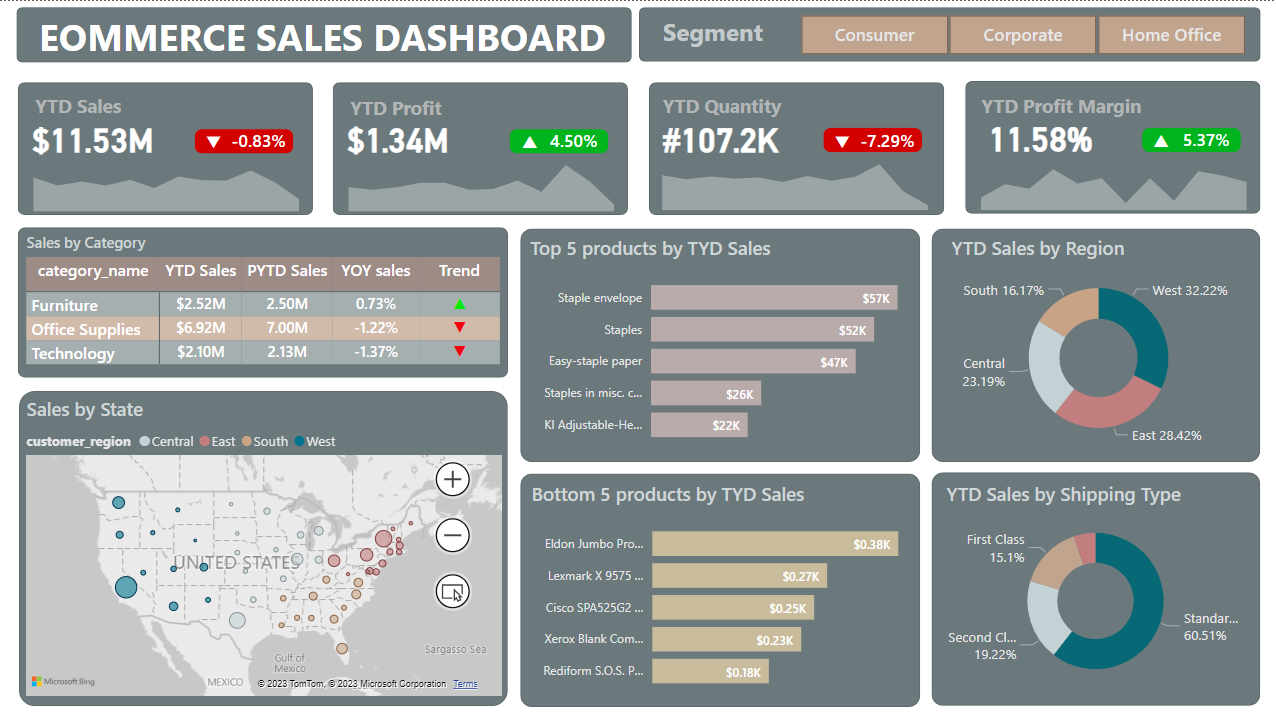

The dashboard page shown, as its layout file describes it:
{"tool":"powerbi","page":{"name":"Page 1","canvas":[1280,720],"ordinal":0},"visuals":[{"type":"shape","box":[17.9,6,615,55],"z":0},{"type":"textbox","box":[34.4,4.4,586.1,60.3],"z":1000},{"type":"shape","box":[18.4,81.8,295.5,132.7],"z":2000},{"type":"card","fields":{"Values":["ecommerce_data.YTD Sales"]},"box":[20,113,147,50],"z":3000},{"type":"areaChart","fields":{"Category":["Calandar.Month"],"Y":["Sum(ecommerce_data.sales_per_order)"]},"box":[19.5,148.3,294.7,66.5],"z":4000},{"type":"shape","box":[194.5,127.4,100.1,25.3],"z":5000},{"type":"card","fields":{"Values":["ecommerce_data.YOY sales"]},"box":[224.5,127.8,70,26.4],"z":6000},{"type":"card","fields":{"Values":["ecommerce_data.Sales Icon"]},"box":[200,127.7,28.9,25],"z":7000},{"type":"textbox","box":[31,88,109,35],"z":8000},{"type":"shape","box":[334.1,81.7,295.5,132.7],"z":9000},{"type":"card","fields":{"Values":["ecommerce_data.YTD Profit"]},"box":[336.1,111.3,125,51.2],"z":10000},{"type":"shape","box":[510.2,127.4,100.1,25.3],"z":11000},{"type":"card","fields":{"Values":["ecommerce_data.YOY Profit"]},"box":[540.2,127.7,70,26.4],"z":12000},{"type":"card","fields":{"Values":["ecommerce_data.Sales Icon Profit"]},"box":[515.7,127.6,28.9,25],"z":13000},{"type":"textbox","box":[345.9,88.3,110,35],"z":14000},{"type":"areaChart","fields":{"Category":["Calandar.Month"],"Y":["Sum(ecommerce_data.profit_per_order)"]},"box":[335.2,148.3,294.7,66.5],"z":15000},{"type":"shape","box":[649.5,80.9,295.5,132.7],"z":16000},{"type":"card","fields":{"Values":["ecommerce_data.YTD concantinated"]},"box":[648,110.8,148,51],"z":17000},{"type":"shape","box":[823.3,126.8,100.1,25.3],"z":18000},{"type":"card","fields":{"Values":["ecommerce_data.YOY Qty"]},"box":[853.3,127.2,70,26.4],"z":19000},{"type":"card","fields":{"Values":["ecommerce_data.Qty Icon"]},"box":[828.8,127.1,28.9,25],"z":20000},{"type":"textbox","box":[658.8,88.1,136.2,35],"z":21000},{"type":"areaChart","fields":{"Category":["Calandar.Month"],"Y":["Sum(ecommerce_data.order_quantity)"]},"box":[648.3,147.8,294.7,66.5],"z":22000},{"type":"shape","box":[966.2,80.4,295.5,132.7],"z":23000},{"type":"card","fields":{"Values":["ecommerce_data.YTD profit margin"]},"box":[967,110,148,51],"z":24000},{"type":"shape","box":[1142.3,126,100.1,25.3],"z":25000},{"type":"card","fields":{"Values":["ecommerce_data.YOY profit margin"]},"box":[1172.3,126.4,70,26.4],"z":26000},{"type":"card","fields":{"Values":["ecommerce_data.profit margin Icon"]},"box":[1147.8,126.3,28.9,25],"z":27000},{"type":"textbox","box":[977.3,87,185,35],"z":28000},{"type":"areaChart","fields":{"Category":["Calandar.Month"],"Y":["ecommerce_data.profit margin"]},"box":[967.3,146.9,294.7,66.5],"z":29000},{"type":"shape","box":[18.8,226.2,490,150],"z":30000},{"type":"pivotTable","title":"Sales by Category","fields":{"Rows":["ecommerce_data.category_name"],"Values":["ecommerce_data.YTD Sales","ecommerce_data.PYTD Sales","ecommerce_data.YOY sales","ecommerce_data.Sales Icon"]},"box":[22.5,231.2,490,150],"z":31000},{"type":"shape","box":[20,390,488.8,315],"z":32000},{"type":"map","title":"Sales by State","fields":{"Y":["us_state_long_lat_codes.latitude"],"X":["us_state_long_lat_codes.longitude"],"Size":["ecommerce_data.YTD Sales"],"Series":["ecommerce_data.customer_region"]},"box":[22.5,395,486.2,305],"z":33000},{"type":"shape","box":[521.2,227.5,400,233.8],"z":34000},{"type":"shape","box":[521.2,472.5,400,233.8],"z":35000},{"type":"barChart","title":"Top 5 products by TYD Sales","fields":{"Category":["ecommerce_data.product_name"],"Y":["ecommerce_data.YTD Sales"]},"box":[526.2,233.8,390,221.2],"z":36000},{"type":"barChart","title":"Bottom 5 products by TYD Sales","fields":{"Category":["ecommerce_data.product_name"],"Y":["ecommerce_data.YTD Sales"]},"box":[527.5,480,390,221.2],"z":37000},{"type":"shape","box":[932.5,227.5,328.8,233.8],"z":38000},{"type":"shape","box":[932.5,471.2,328.8,233.8],"z":39000},{"type":"donutChart","title":"YTD Sales by Region","fields":{"Category":["ecommerce_data.customer_region"],"Y":["ecommerce_data.YTD Sales"]},"box":[947.1,234.3,304.3,221.4],"z":40000},{"type":"donutChart","title":"YTD Sales by Shipping Type","fields":{"Category":["ecommerce_data.shipping_type","ecommerce_data.customer_region"],"Y":["ecommerce_data.YTD Sales"]},"box":[942.9,480,308.6,215.7],"z":41000},{"type":"shape","box":[640,6.4,621.8,54.5],"z":42000},{"type":"slicer","fields":{"Values":["ecommerce_data.customer_segment"]},"box":[776.2,7.5,493.8,52.5],"z":43000},{"type":"textbox","box":[658.5,9.6,118.2,43.4],"z":44000}]}

Visuals, with their boxes in screenshot pixels (x1, y1, x2, y2), scaled from the page's 1280x720 canvas onto the 1276x716 screenshot:
shape: l=18, t=6, r=631, b=61
textbox: l=34, t=4, r=619, b=64
shape: l=18, t=81, r=313, b=213
card - ecommerce_data.YTD Sales: l=20, t=112, r=166, b=162
areaChart - Calandar.Month x Sum(ecommerce_data.sales_per_order): l=19, t=147, r=313, b=214
shape: l=194, t=127, r=294, b=152
card - ecommerce_data.YOY sales: l=224, t=127, r=294, b=153
card - ecommerce_data.Sales Icon: l=199, t=127, r=228, b=152
textbox: l=31, t=88, r=140, b=122
shape: l=333, t=81, r=628, b=213
card - ecommerce_data.YTD Profit: l=335, t=111, r=460, b=162
shape: l=509, t=127, r=608, b=152
card - ecommerce_data.YOY Profit: l=539, t=127, r=608, b=153
card - ecommerce_data.Sales Icon Profit: l=514, t=127, r=543, b=152
textbox: l=345, t=88, r=454, b=123
areaChart - Calandar.Month x Sum(ecommerce_data.profit_per_order): l=334, t=147, r=628, b=214
shape: l=647, t=80, r=942, b=212
card - ecommerce_data.YTD concantinated: l=646, t=110, r=794, b=161
shape: l=821, t=126, r=921, b=151
card - ecommerce_data.YOY Qty: l=851, t=126, r=920, b=153
card - ecommerce_data.Qty Icon: l=826, t=126, r=855, b=151
textbox: l=657, t=88, r=793, b=122
areaChart - Calandar.Month x Sum(ecommerce_data.order_quantity): l=646, t=147, r=940, b=213
shape: l=963, t=80, r=1258, b=212
card - ecommerce_data.YTD profit margin: l=964, t=109, r=1112, b=160
shape: l=1139, t=125, r=1239, b=150
card - ecommerce_data.YOY profit margin: l=1169, t=126, r=1238, b=152
card - ecommerce_data.profit margin Icon: l=1144, t=126, r=1173, b=150
textbox: l=974, t=87, r=1159, b=121
areaChart - Calandar.Month x ecommerce_data.profit margin: l=964, t=146, r=1258, b=212
shape: l=19, t=225, r=507, b=374
"Sales by Category" pivotTable: l=22, t=230, r=511, b=379
shape: l=20, t=388, r=507, b=701
"Sales by State" map: l=22, t=393, r=507, b=696
shape: l=520, t=226, r=918, b=459
shape: l=520, t=470, r=918, b=702
"Top 5 products by TYD Sales" barChart: l=525, t=233, r=913, b=452
"Bottom 5 products by TYD Sales" barChart: l=526, t=477, r=915, b=697
shape: l=930, t=226, r=1257, b=459
shape: l=930, t=469, r=1257, b=701
"YTD Sales by Region" donutChart: l=944, t=233, r=1247, b=453
"YTD Sales by Shipping Type" donutChart: l=940, t=477, r=1248, b=692
shape: l=638, t=6, r=1258, b=61
slicer - ecommerce_data.customer_segment: l=774, t=7, r=1266, b=60
textbox: l=656, t=10, r=774, b=53
